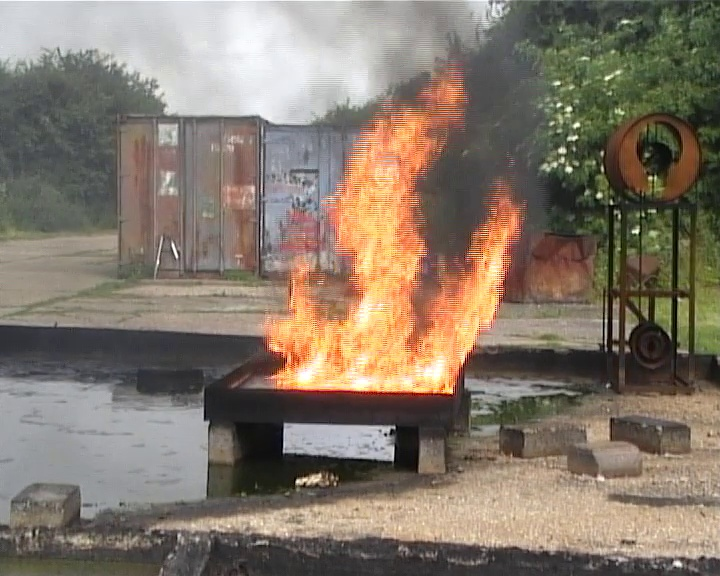fire: (262, 72, 521, 390)
